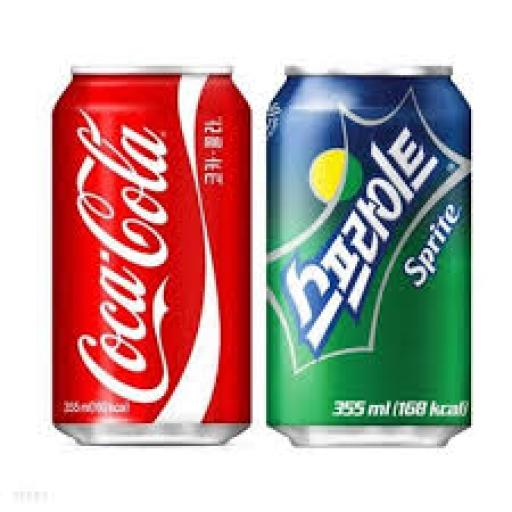Coca: (44, 55, 256, 455)
